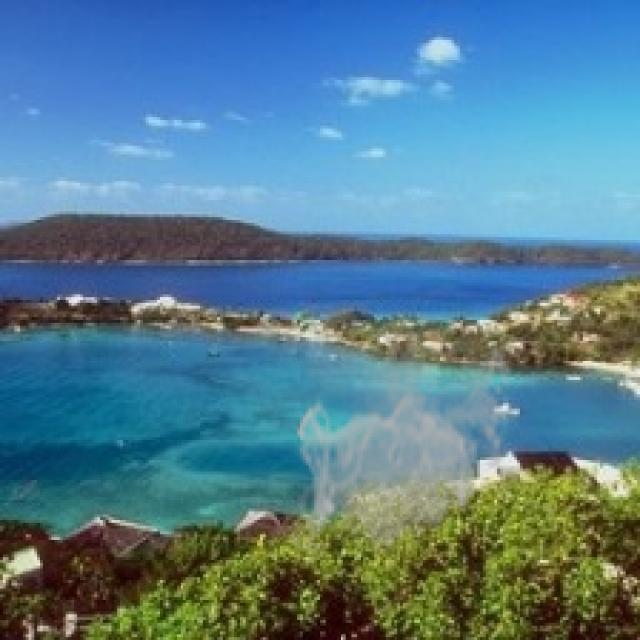Smoke: (292, 314, 517, 560)
